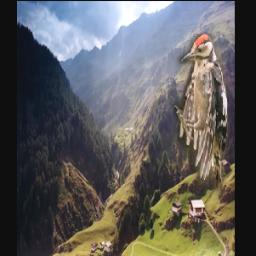Woodpecker: (174, 35, 228, 196)
